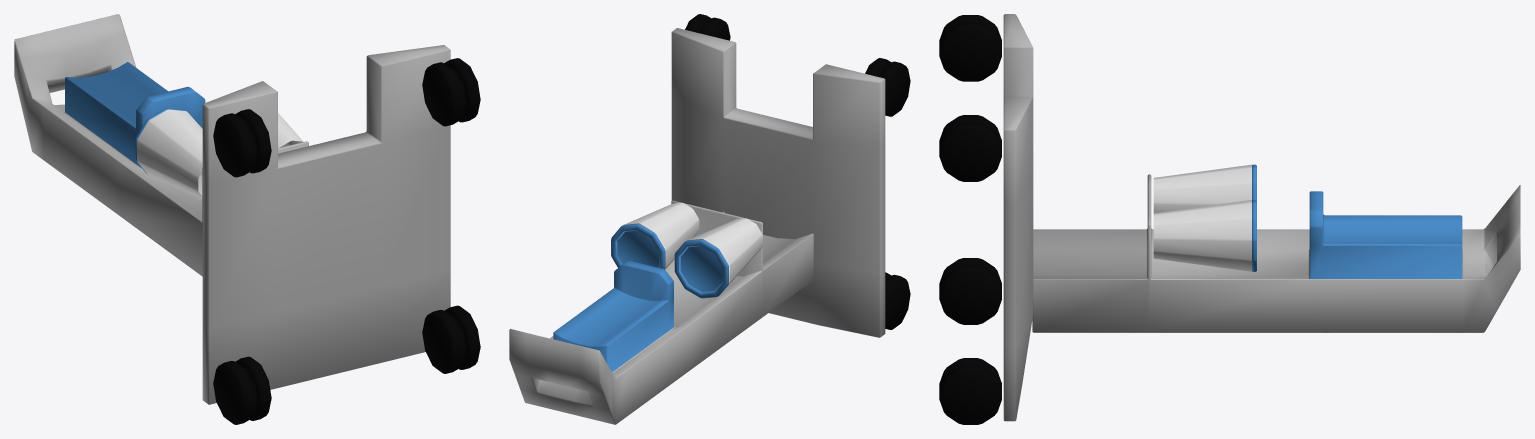
3 renders of one model, left to right at view 1: azimuth 30°, elevation 25°; view 2: azimuth 150°, elevation 25°; view 3: azimuth 270°, elevation 25°, orthographic. The views are drawn at different scales.
Parts seen in each view (by area): view 1: Cube.001; view 2: Cube.001; view 3: Cube.001.
Boxes of the visible parts, box(x1,y1,x2,y2) form: Cube.001: box(14, 14, 480, 424); Cube.001: box(509, 14, 910, 424); Cube.001: box(939, 14, 1520, 424).
Bounding box in the file's own units: 43.27 × 51.8 × 91.39.
